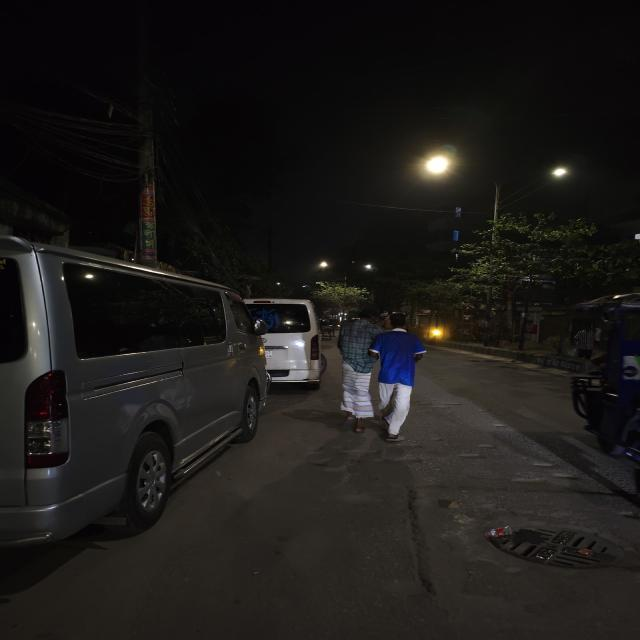bus: (251, 296, 328, 392)
cng: (18, 368, 76, 476)
pedestrian: (338, 310, 438, 442)
rickshaw: (557, 284, 640, 512)
